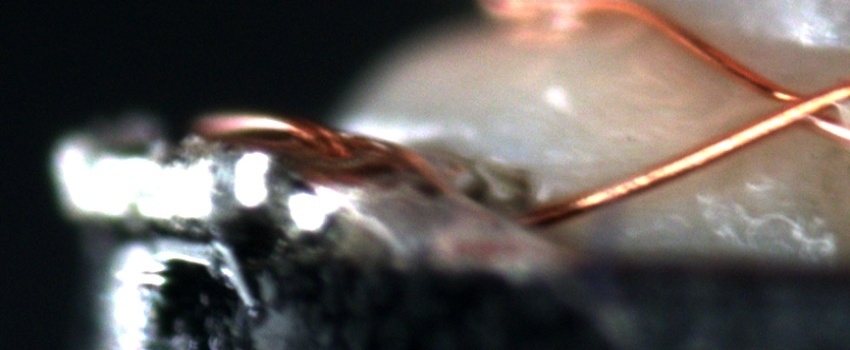CL: (754, 75, 847, 141)
DL: (524, 148, 650, 199)
TE: (194, 97, 359, 153)
